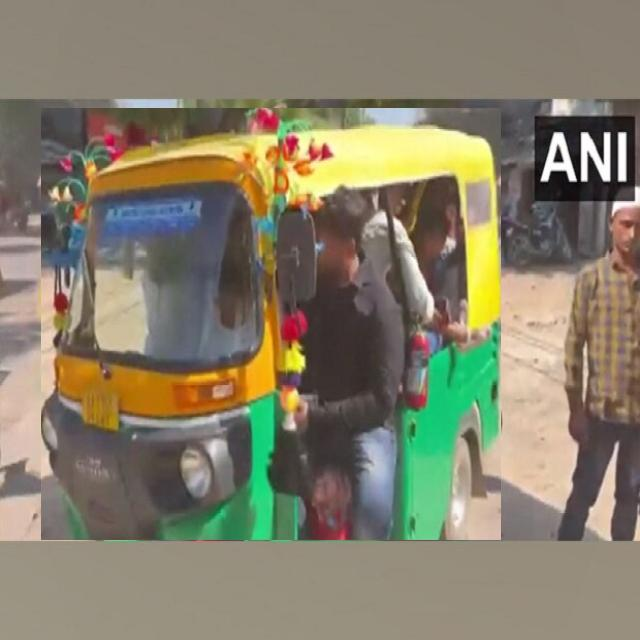autorickshaw: (41, 109, 501, 540)
